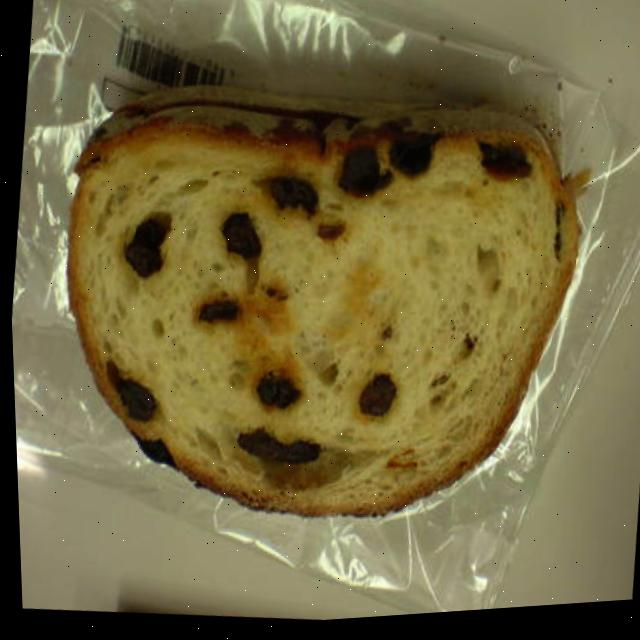面包点心: (27, 57, 607, 568)
